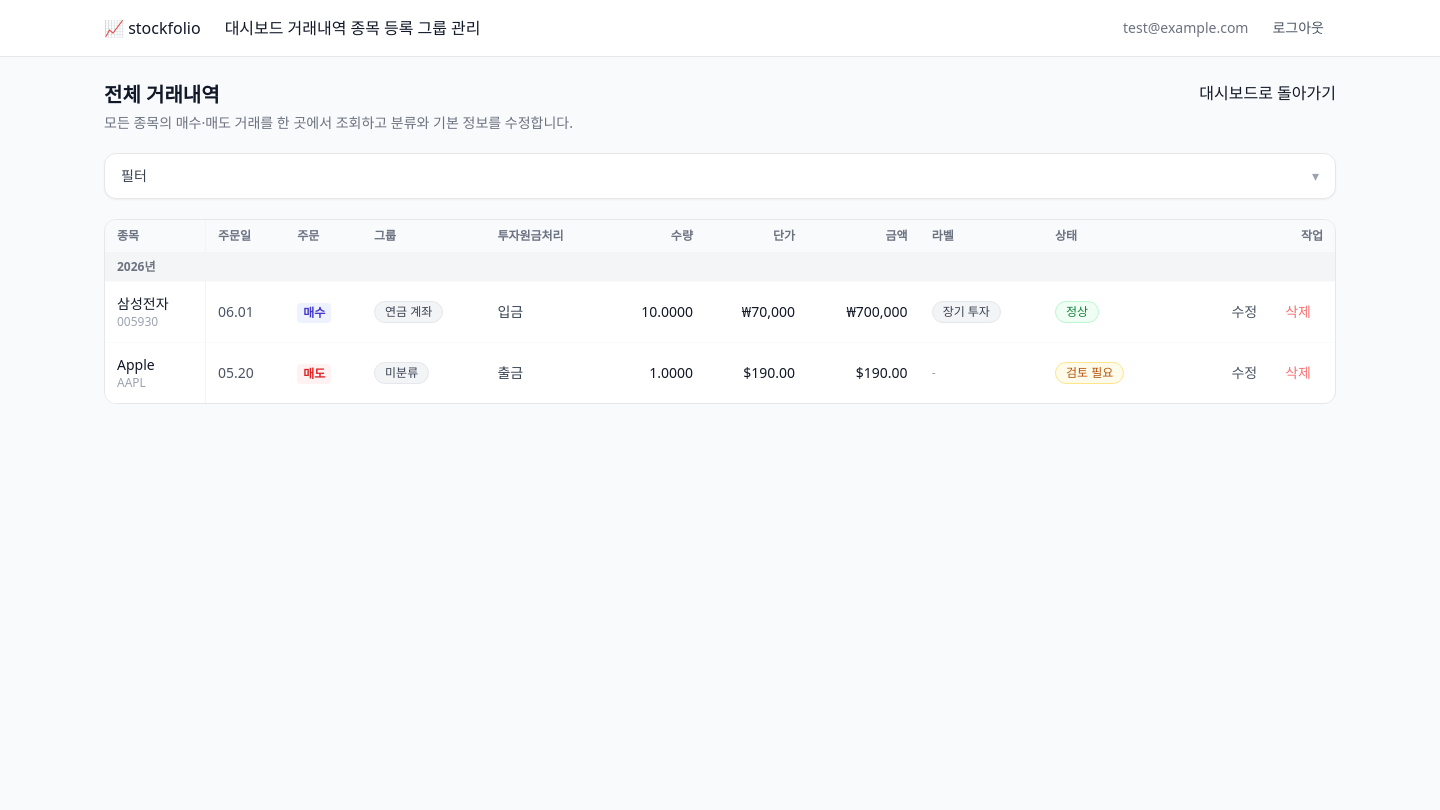
TransactionsPage › opens the edit panel with principal flow controls
The width and height of the screenshot is (1440, 810).
Click the button "수정" in the row of "삼성전자": [1244, 312] box [1220,296,1269,328]
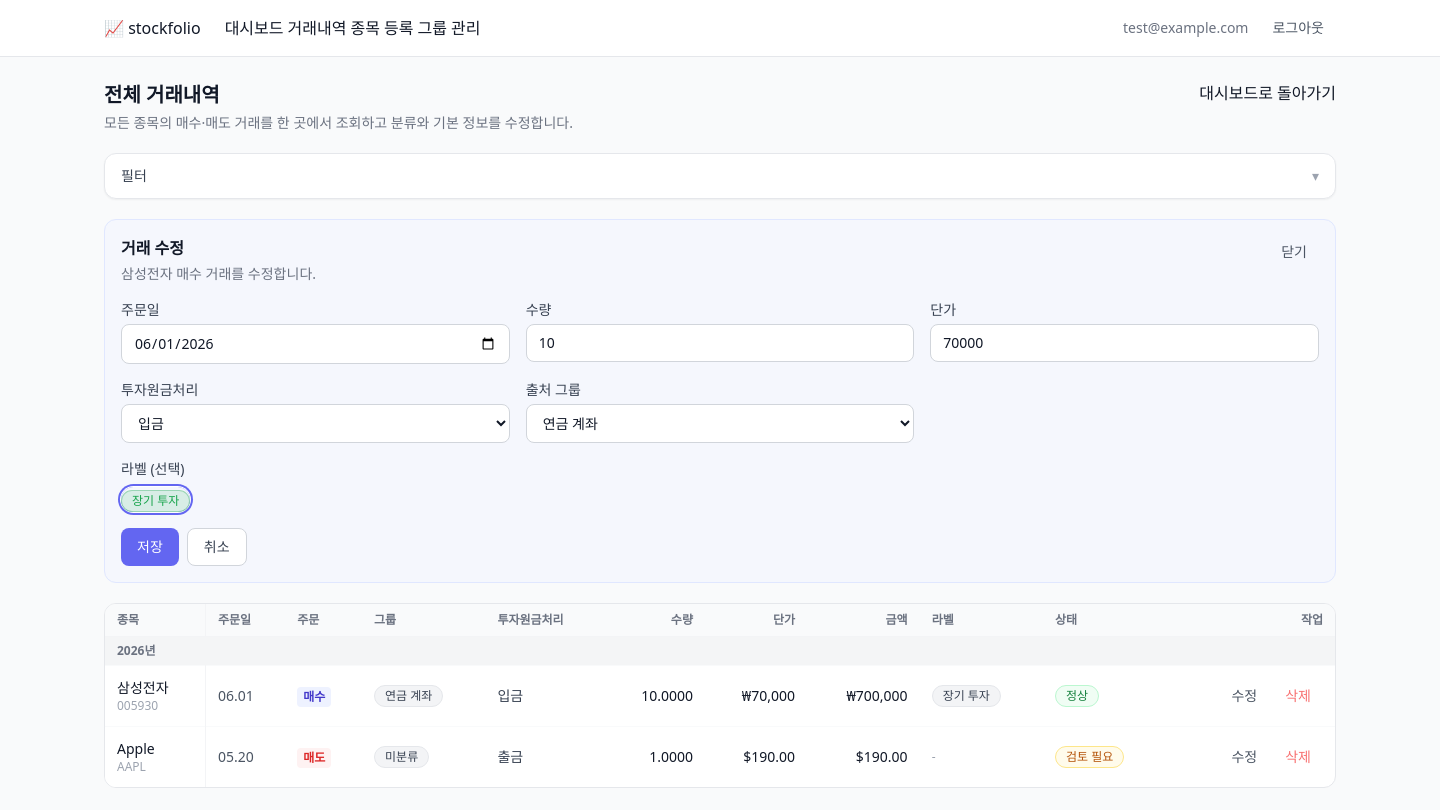
Expected: the heading "거래 수정" is shown, [121,237,184,259]
Expected: the dropdown labelled "투자원금처리" is shown, [121,404,510,443]
Expected: the button "저장" is shown, [121,528,179,566]
